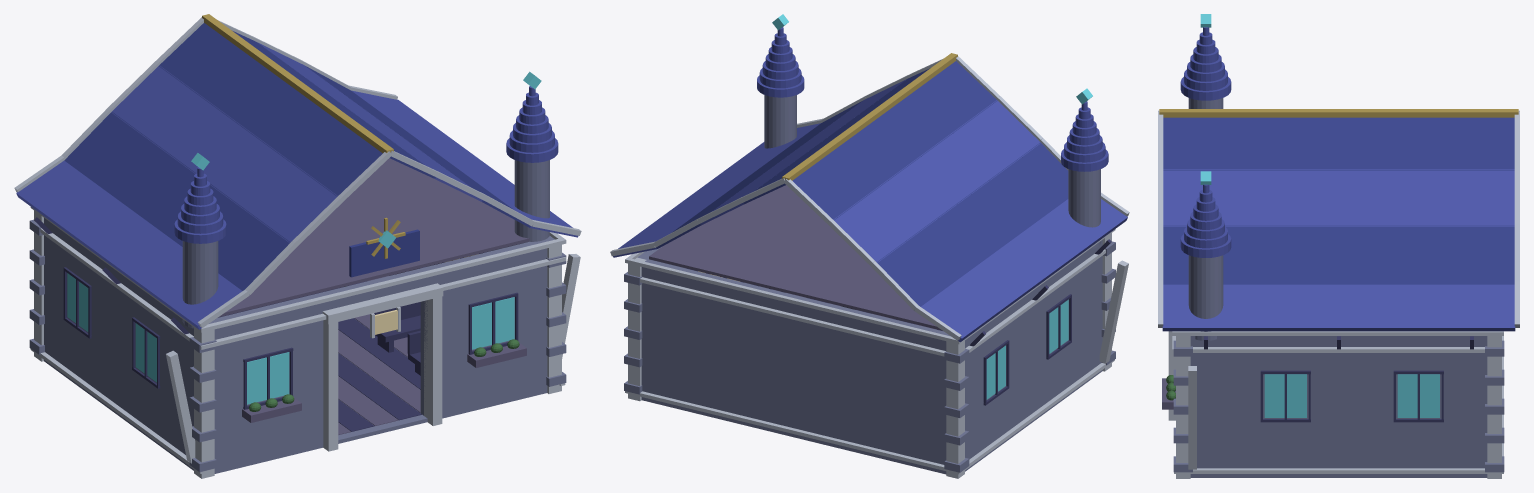
File: QuestHall.glb
3 renders of one model, left to right at view 1: azimuth 30°, elevation 25°; view 2: azimuth 150°, elevation 25°; view 3: azimuth 270°, elevation 25°, orthographic. The views are drawn at different scales.
Parts seen in each view (by area): view 1: QuestHall_095_Ceiling, QuestHall_002_Side, QuestHall_159_ProfileRoof, QuestHall_156_ProfileRoof, QuestHall_040_FrontWing, QuestHall_003_FrontWing, QuestHall_162_ProfileRoof, QuestHall_165_ProfileRoof, QuestHall_177_ProfileRoof, QuestHall_085_FrontCourse, QuestHall_180_Ridge, QuestHall_041_DoorJamb (+31 smaller); view 2: QuestHall_001_Rear, QuestHall_095_Ceiling, QuestHall_002_Side, QuestHall_159_ProfileRoof, QuestHall_162_ProfileRoof, QuestHall_156_ProfileRoof, QuestHall_165_ProfileRoof, QuestHall_177_ProfileRoof, QuestHall_086_RearCourse, QuestHall_078_RearCourse, QuestHall_180_Ridge, QuestHall_082_RearCourse (+14 smaller); view 3: QuestHall_039_Side, QuestHall_171_ProfileRoof, QuestHall_168_ProfileRoof, QuestHall_174_ProfileRoof, QuestHall_177_ProfileRoof, QuestHall_180_Ridge, QuestHall_192_ObservatoryTurret, QuestHall_080_SideCourse, QuestHall_054_SideWindow, QuestHall_060_SideWindow, QuestHall_084_SideCourse, QuestHall_088_SideCourse (+10 smaller).
Boxes of the visible parts, x1,y1,x2,y2 form: QuestHall_095_Ceiling: [218, 158, 529, 317]; QuestHall_002_Side: [44, 218, 210, 469]; QuestHall_159_ProfileRoof: [111, 65, 337, 242]; QuestHall_156_ProfileRoof: [159, 23, 382, 196]; QuestHall_040_FrontWing: [420, 236, 554, 418]; QuestHall_003_FrontWing: [210, 291, 332, 473]; QuestHall_162_ProfileRoof: [64, 112, 290, 290]; QuestHall_165_ProfileRoof: [16, 160, 242, 329]; QuestHall_177_ProfileRoof: [352, 90, 578, 237]; QuestHall_085_FrontCourse: [198, 239, 566, 332]; QuestHall_180_Ridge: [202, 14, 393, 153]; QuestHall_041_DoorJamb: [424, 296, 442, 425]; QuestHall_001_Rear: [637, 257, 950, 473]; QuestHall_095_Ceiling: [649, 185, 942, 330]; QuestHall_002_Side: [965, 240, 1102, 471]; QuestHall_159_ProfileRoof: [833, 100, 1040, 262]; QuestHall_162_ProfileRoof: [876, 142, 1068, 306]; QuestHall_156_ProfileRoof: [792, 61, 997, 220]; QuestHall_165_ProfileRoof: [921, 199, 1127, 342]; QuestHall_177_ProfileRoof: [613, 123, 820, 257]; QuestHall_086_RearCourse: [625, 258, 961, 344]; QuestHall_078_RearCourse: [625, 391, 961, 474]; QuestHall_180_Ridge: [782, 53, 957, 180]; QuestHall_082_RearCourse: [640, 277, 945, 356]; QuestHall_039_Side: [1190, 336, 1487, 477]; QuestHall_171_ProfileRoof: [1163, 169, 1514, 226]; QuestHall_168_ProfileRoof: [1163, 117, 1514, 170]; QuestHall_174_ProfileRoof: [1163, 225, 1514, 284]; QuestHall_177_ProfileRoof: [1162, 284, 1515, 331]; QuestHall_180_Ridge: [1159, 109, 1518, 117]; QuestHall_192_ObservatoryTurret: [1188, 255, 1223, 340]; QuestHall_080_SideCourse: [1174, 468, 1503, 473]; QuestHall_054_SideWindow: [1397, 374, 1439, 417]; QuestHall_060_SideWindow: [1264, 374, 1306, 417]; QuestHall_084_SideCourse: [1193, 347, 1484, 352]; QuestHall_088_SideCourse: [1174, 331, 1503, 335].
Bounding box in the file's own units: 34.64 × 24.97 × 27.2.
